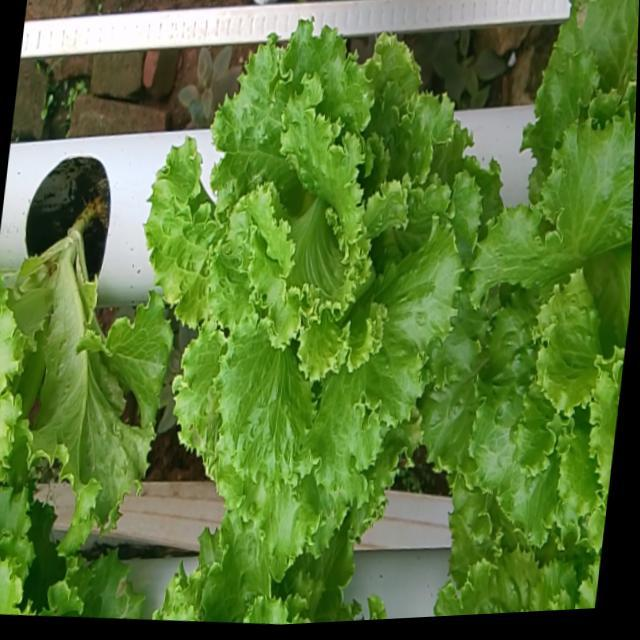Mature: (141, 2, 479, 543), (419, 90, 636, 532)
